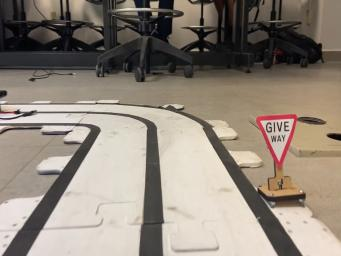give_way: (256, 114, 306, 208)
street: (1, 101, 306, 256)
